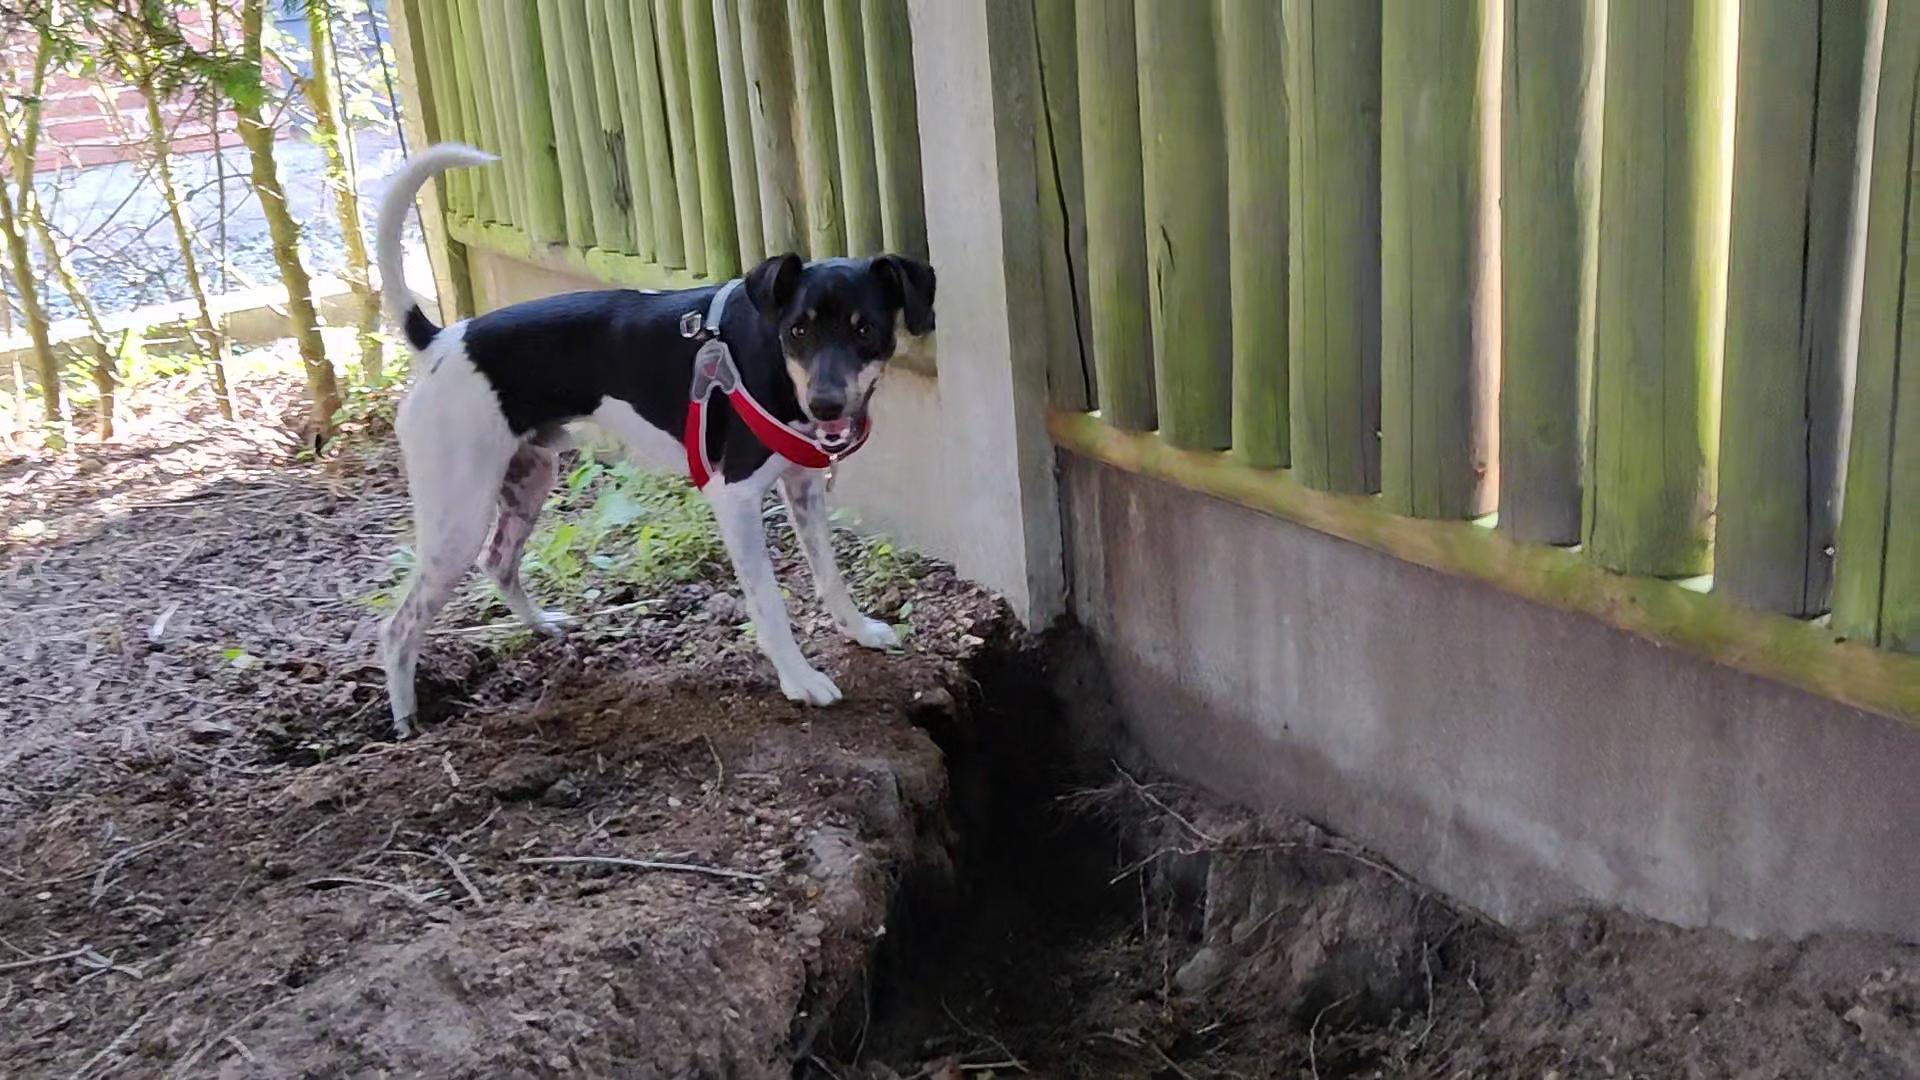Dog: (347, 117, 953, 736)
